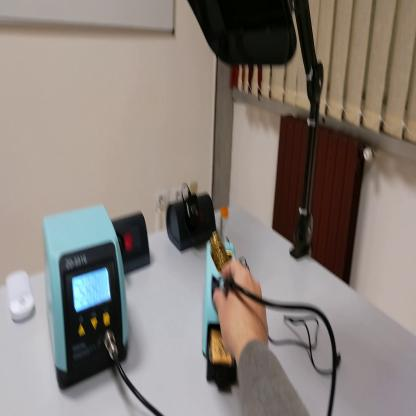hand: (210, 248, 267, 356)
socket: (164, 194, 217, 254), (113, 212, 153, 279)
welder base: (205, 204, 245, 397)
welder probe tip: (216, 271, 235, 298)
welder station: (42, 205, 131, 392)
